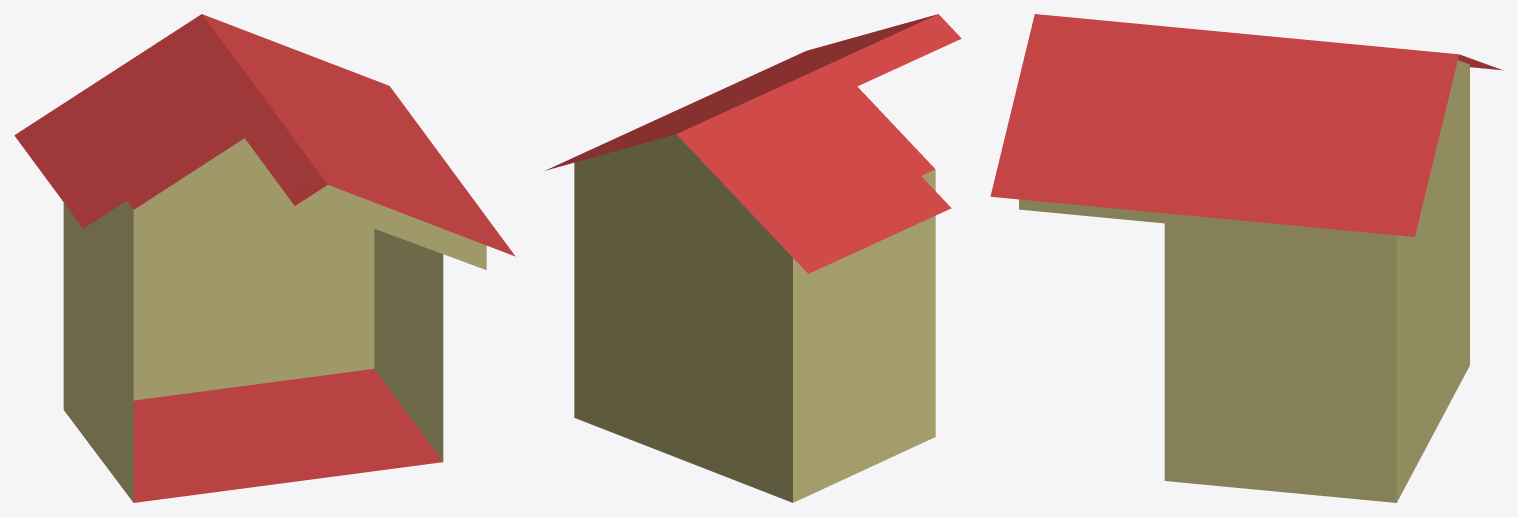
The picture shows the model from 3 angles, left to right: view 1: azimuth 30°, elevation 25°; view 2: azimuth 150°, elevation 25°; view 3: azimuth 270°, elevation 25°; orthographic projection. The views are drawn at different scales.
Bounding box in the file's own units: 13.97 × 16.05 × 13.03.
